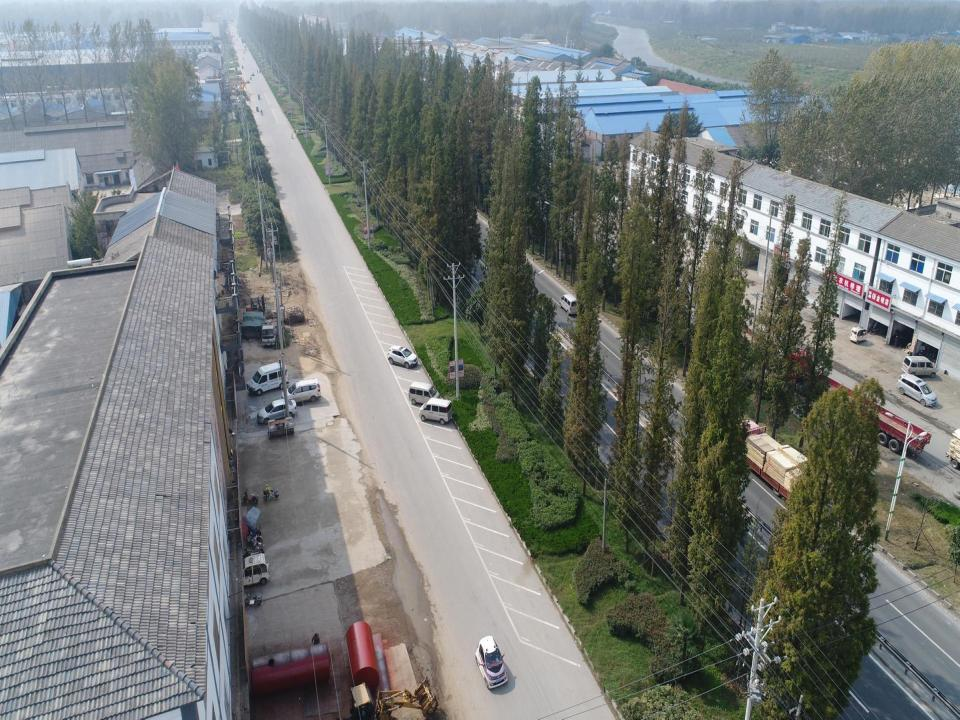car: (476, 635, 508, 689), (257, 399, 297, 424), (282, 379, 320, 404), (243, 552, 270, 586)
truck: (732, 420, 819, 509), (349, 677, 439, 719), (260, 307, 281, 348)
van: (246, 361, 288, 397), (418, 397, 452, 425), (408, 381, 440, 407), (388, 346, 418, 370), (559, 294, 581, 316)
